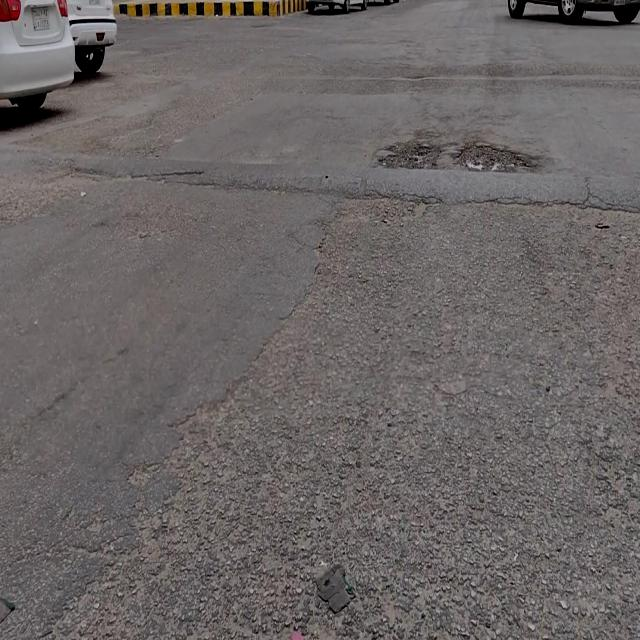Potholes: (459, 139, 532, 172), (384, 139, 442, 170)
